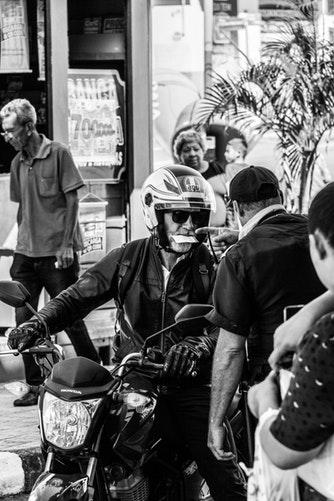helmet: (136, 168, 215, 249)
